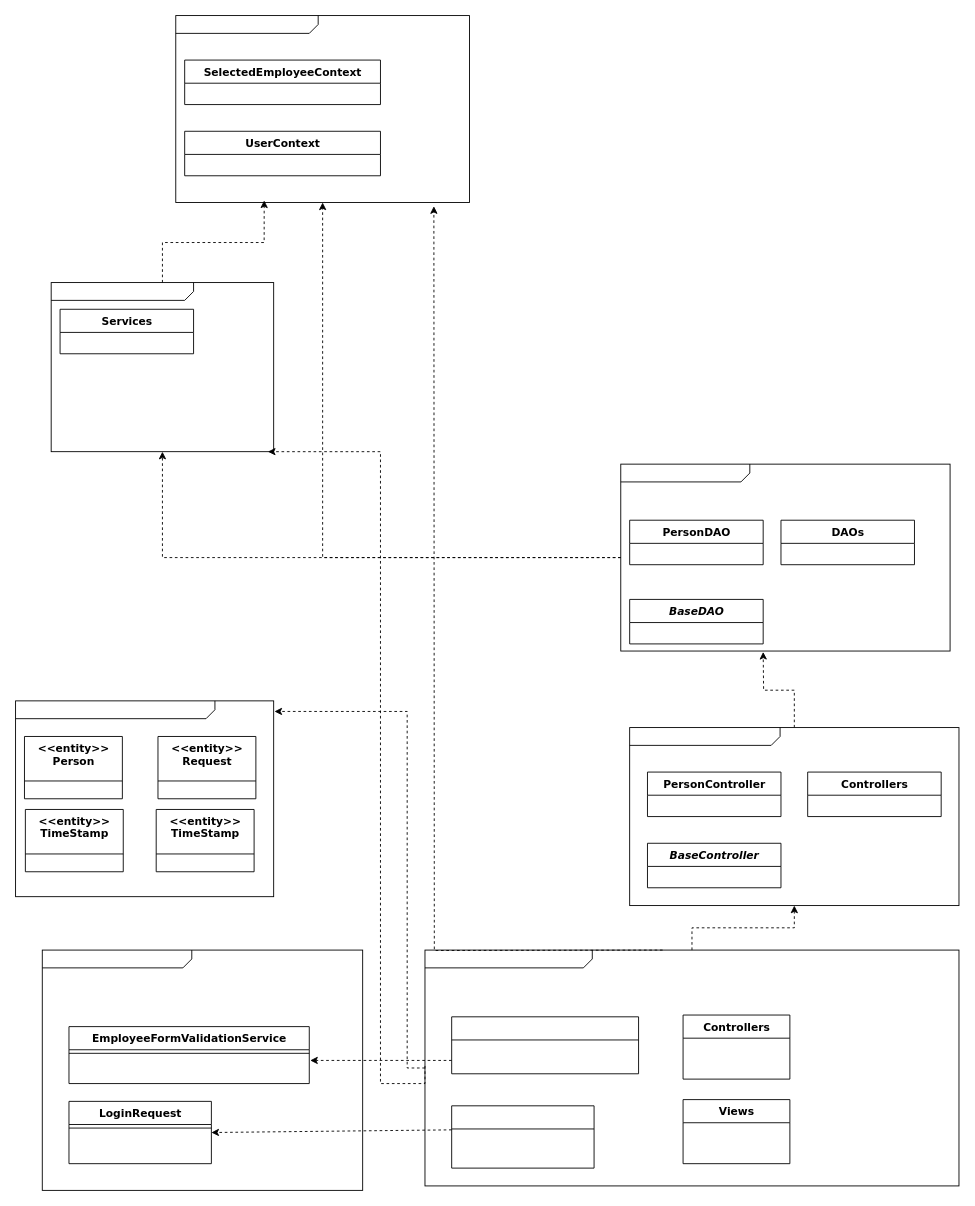
Image size: 975x1206. Some labels were removed from this diagram. The box of each missing label's shape, as (x1, y1, x2, y2) in pixels:
EmployeeFormController: (451, 1016, 639, 1074)
Login Controller: (451, 1105, 594, 1168)
org.fabianandiel.context: (175, 15, 469, 202)
org.fabianandiel.controller: (629, 727, 959, 906)
org.fabianandiel.dao: (620, 463, 950, 651)
org.fabianandiel.entities: (15, 700, 274, 897)
org.fabianandiel.gui: (424, 949, 959, 1186)
org.fabianandiel.services: (50, 282, 274, 452)
org.fabianandiel.validation: (41, 949, 363, 1190)
